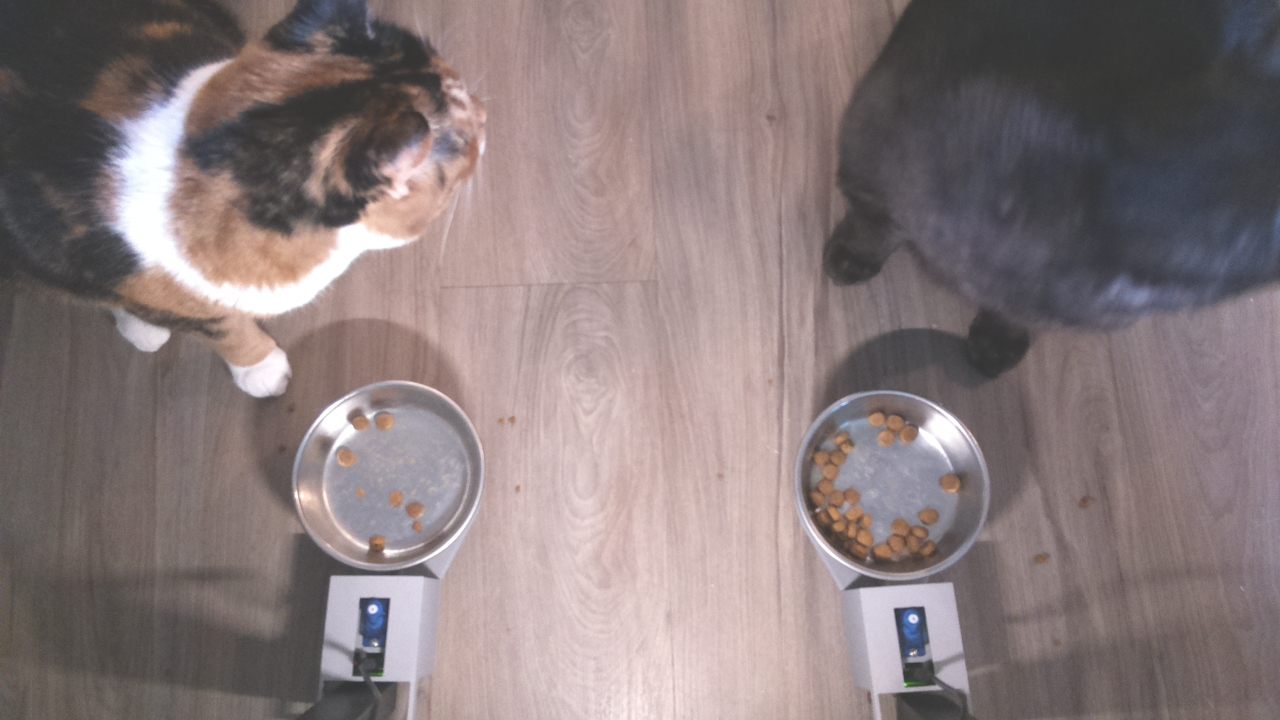bella: (125, 1, 518, 289)
open_bowl: (287, 373, 491, 576), (787, 386, 992, 585)
